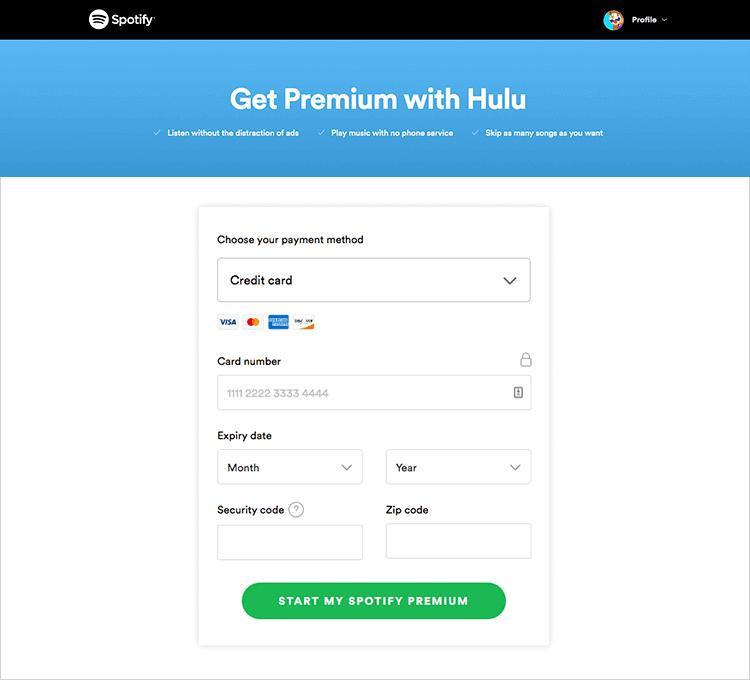button: (243, 582, 509, 622)
dropdown: (220, 258, 532, 304), (387, 450, 533, 486), (217, 450, 363, 484)
icon: (290, 499, 309, 518), (518, 349, 534, 368)
input: (217, 376, 534, 412), (219, 525, 364, 562), (386, 525, 533, 561)
label: (215, 233, 371, 250), (219, 502, 289, 517), (216, 356, 282, 369), (218, 429, 275, 442), (387, 504, 434, 519)
